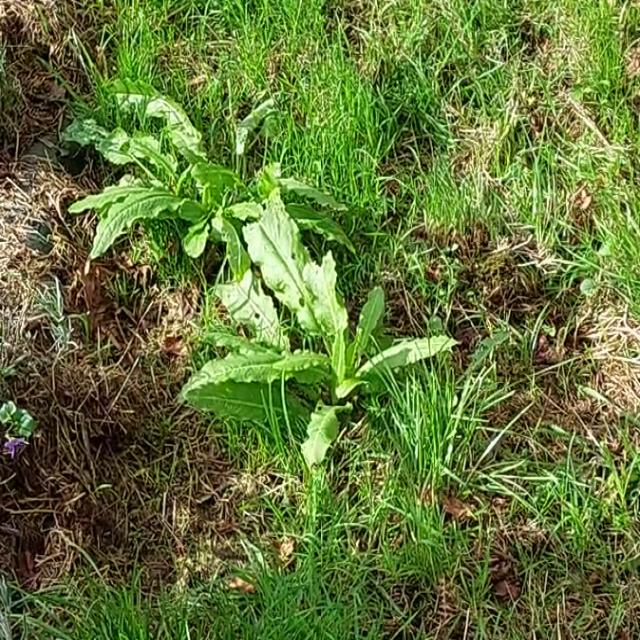organic waste: (187, 186, 467, 495), (35, 45, 360, 299)
